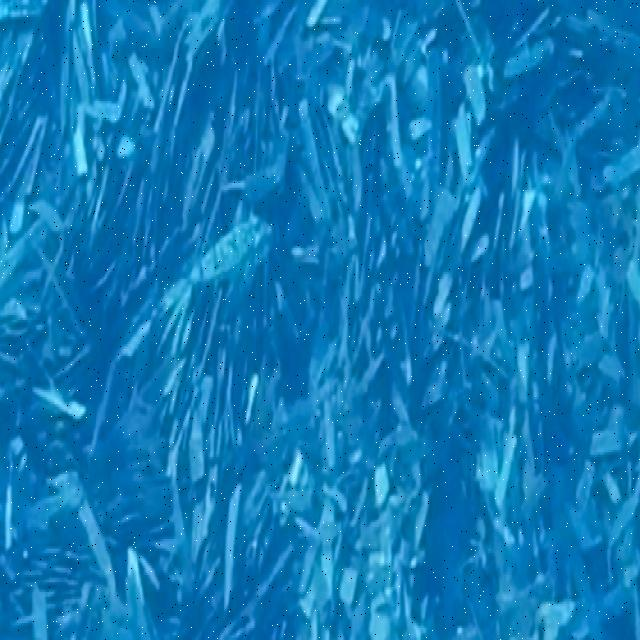Balik: (187, 214, 271, 282)
